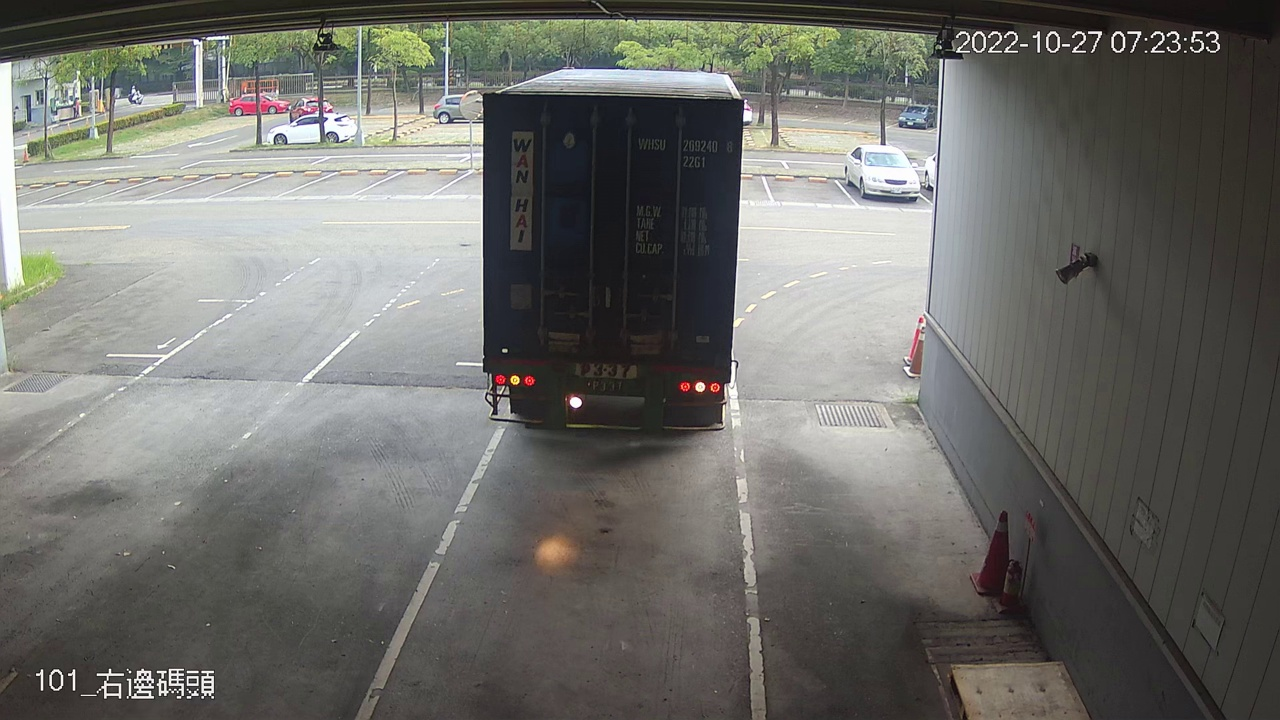container: (632, 131, 736, 173)
